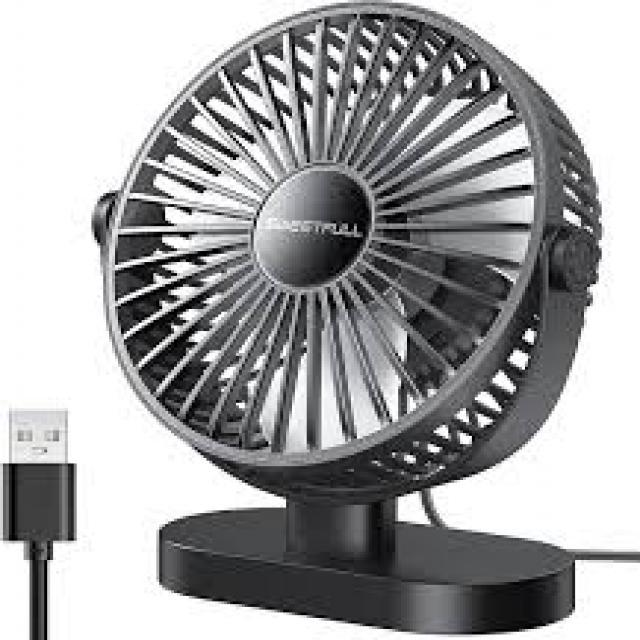fan: (72, 5, 629, 631)
